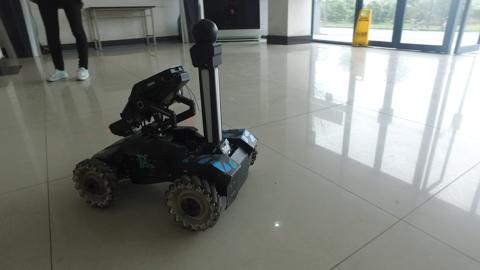chariot: (70, 19, 260, 233)
